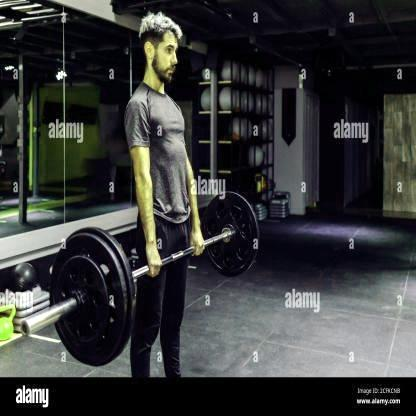Barbell: (18, 313, 36, 342)
